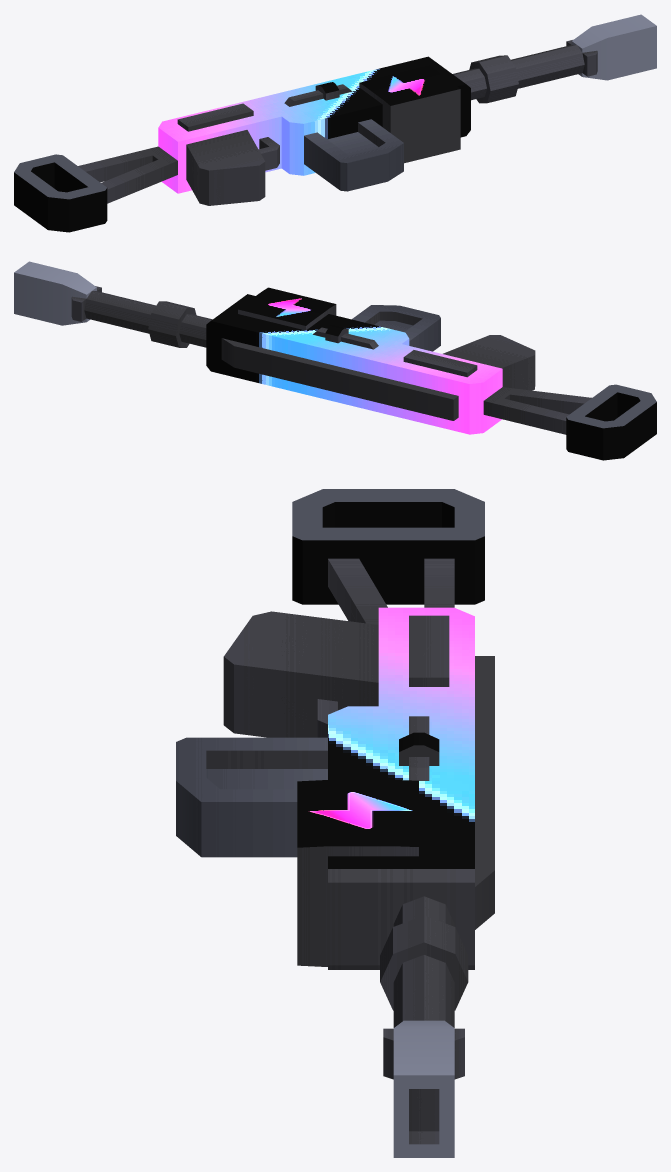
Rendered from Machine Gun v8.glb.
3 views of the same model, one above another, from view 1: azimuth 30°, elevation 25°; view 2: azimuth 150°, elevation 25°; view 3: azimuth 270°, elevation 25° (orthographic). The views are drawn at different scales.
Parts seen in each view (by area): view 1: magazine; view 2: magazine; view 3: magazine.
Part boxes in pixels (<box>): magazine: <box>14,14,656,232</box>; magazine: <box>14,261,656,460</box>; magazine: <box>176,489,494,1157</box>.
Bounding box in the file's own units: 0.695 × 0.0775 × 0.1575.
Materials: 1 (1 with a texture image).
